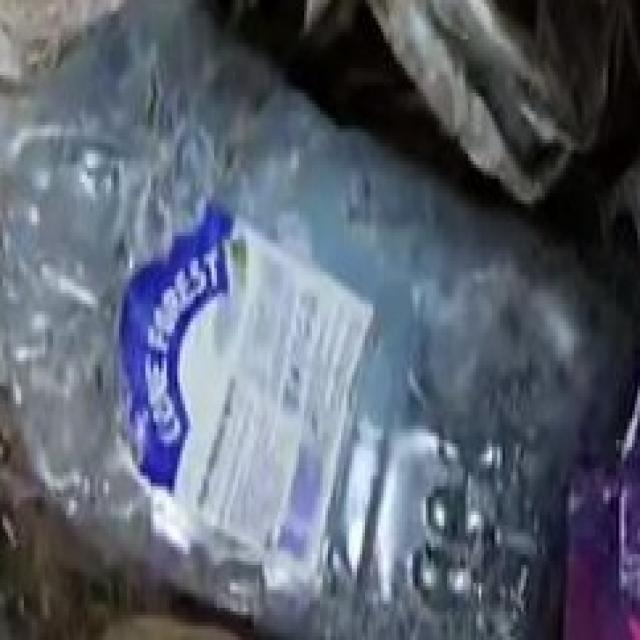plasticbottle: (0, 28, 545, 640)
